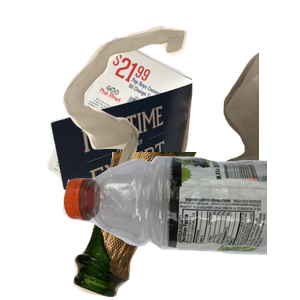glass: (71, 152, 260, 300)
paper: (45, 34, 230, 214)
plastic: (60, 152, 300, 300)
trash: (60, 23, 300, 203)
